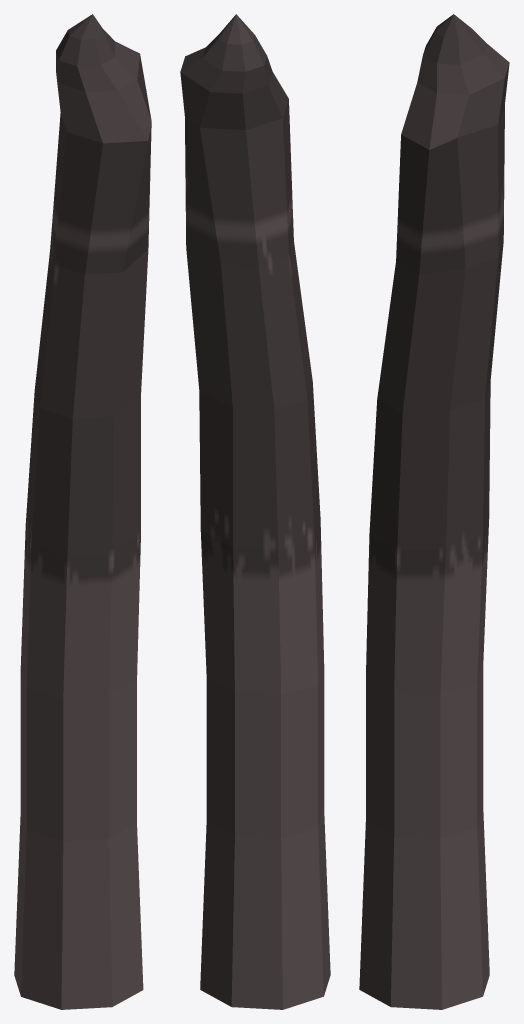
The model's file is stone-pike-c.fbx.
3 views of the same model, side by side, from view 1: azimuth 30°, elevation 25°; view 2: azimuth 150°, elevation 25°; view 3: azimuth 330°, elevation 25° (orthographic).
Visible parts, largest first — view 1: Cylinder; view 2: Cylinder; view 3: Cylinder.
Part boxes in pixels (<box>): Cylinder: <box>14,14,151,1009</box>; Cylinder: <box>180,14,330,1009</box>; Cylinder: <box>359,14,509,1009</box>.
Size of the model in its own units: 221 by 1582 by 200.
